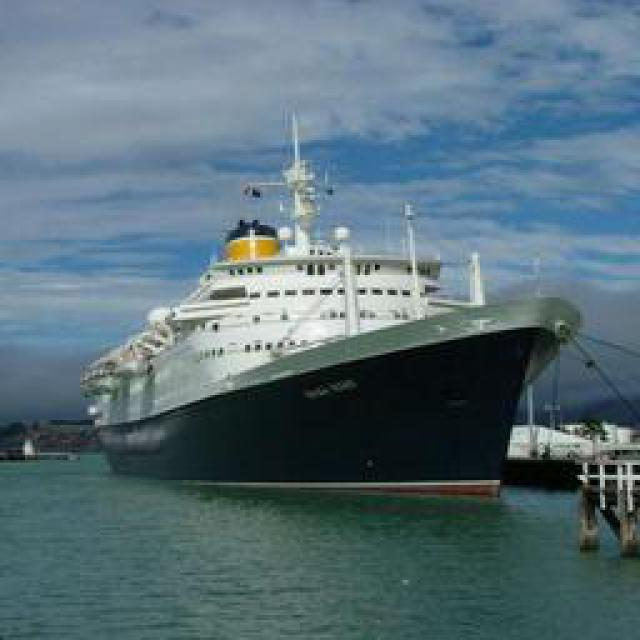Ship: (98, 179, 593, 492)
